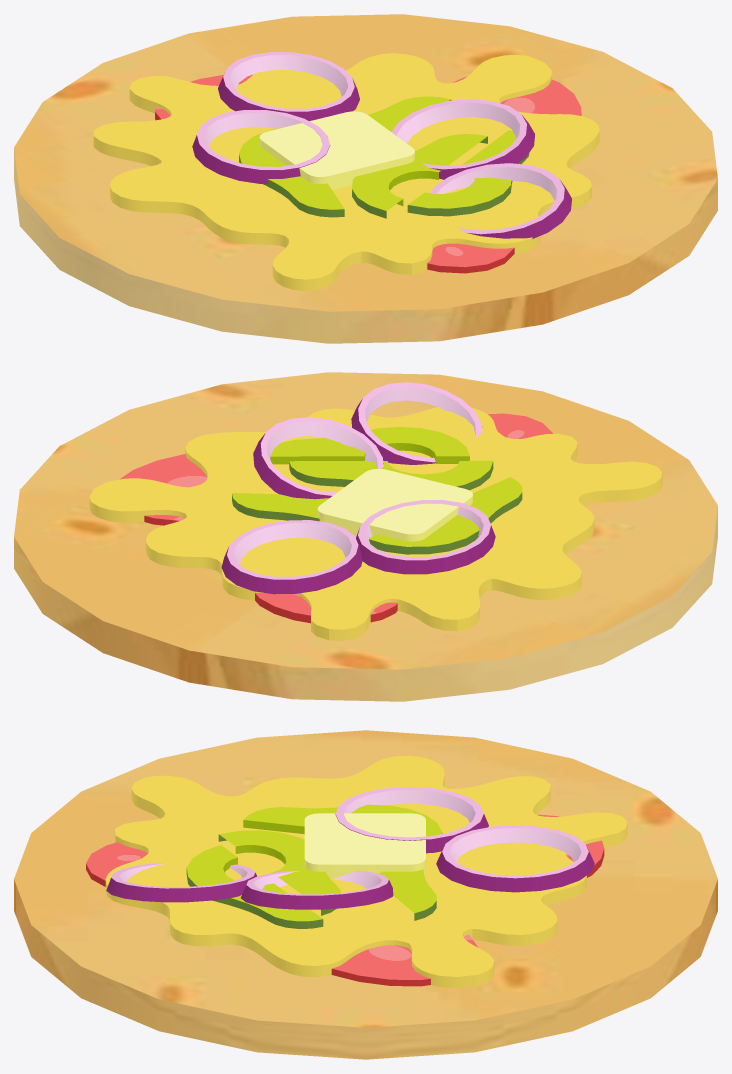
File: taco_Carne_Cebolla_Aguacate_Salsa.glb
The picture shows the model from 3 angles, top to bottom: view 1: azimuth 30°, elevation 25°; view 2: azimuth 150°, elevation 25°; view 3: azimuth 270°, elevation 25°; orthographic projection.
Visible parts, largest first — view 1: tortilla.002, Melted_Butter_Butter_0, Avocado_Slice_Avocado_0, Onion_Slice_Onion_0, Onion_Slice_Onion_0.001, Ham_Slice_Ham_0.002; view 2: tortilla.002, Melted_Butter_Butter_0, Avocado_Slice_Avocado_0, Onion_Slice_Onion_0, Onion_Slice_Onion_0.001, Ham_Slice_Ham_0.002; view 3: tortilla.002, Melted_Butter_Butter_0, Avocado_Slice_Avocado_0, Onion_Slice_Onion_0, Onion_Slice_Onion_0.001, Ham_Slice_Ham_0.002.
Boxes of the visible parts, bbox=[...] form: tortilla.002: bbox=[14, 14, 717, 343]; Melted_Butter_Butter_0: bbox=[93, 53, 599, 290]; Avocado_Slice_Avocado_0: bbox=[239, 96, 529, 218]; Onion_Slice_Onion_0: bbox=[192, 52, 359, 184]; Onion_Slice_Onion_0.001: bbox=[391, 99, 571, 238]; Ham_Slice_Ham_0.002: bbox=[155, 74, 581, 273]; tortilla.002: bbox=[14, 372, 717, 701]; Melted_Butter_Butter_0: bbox=[89, 407, 662, 640]; Avocado_Slice_Avocado_0: bbox=[232, 426, 522, 554]; Onion_Slice_Onion_0: bbox=[221, 500, 495, 594]; Onion_Slice_Onion_0.001: bbox=[253, 382, 482, 499]; Ham_Slice_Ham_0.002: bbox=[120, 413, 552, 623]; tortilla.002: bbox=[14, 730, 717, 1059]; Melted_Butter_Butter_0: bbox=[105, 755, 627, 988]; Avocado_Slice_Avocado_0: bbox=[186, 804, 442, 928]; Onion_Slice_Onion_0: bbox=[335, 786, 594, 892]; Onion_Slice_Onion_0.001: bbox=[106, 863, 393, 909]; Ham_Slice_Ham_0.002: bbox=[86, 814, 604, 986].
Size of the model in its own units: 0.2118 by 0.0248 by 0.2118.
5 materials, 5 textured.
